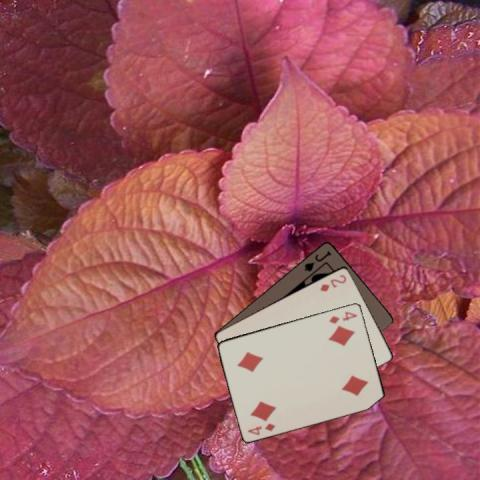2d: (317, 271, 348, 293)
4d: (326, 308, 359, 325), (244, 420, 276, 436)
Js: (301, 247, 333, 273)
